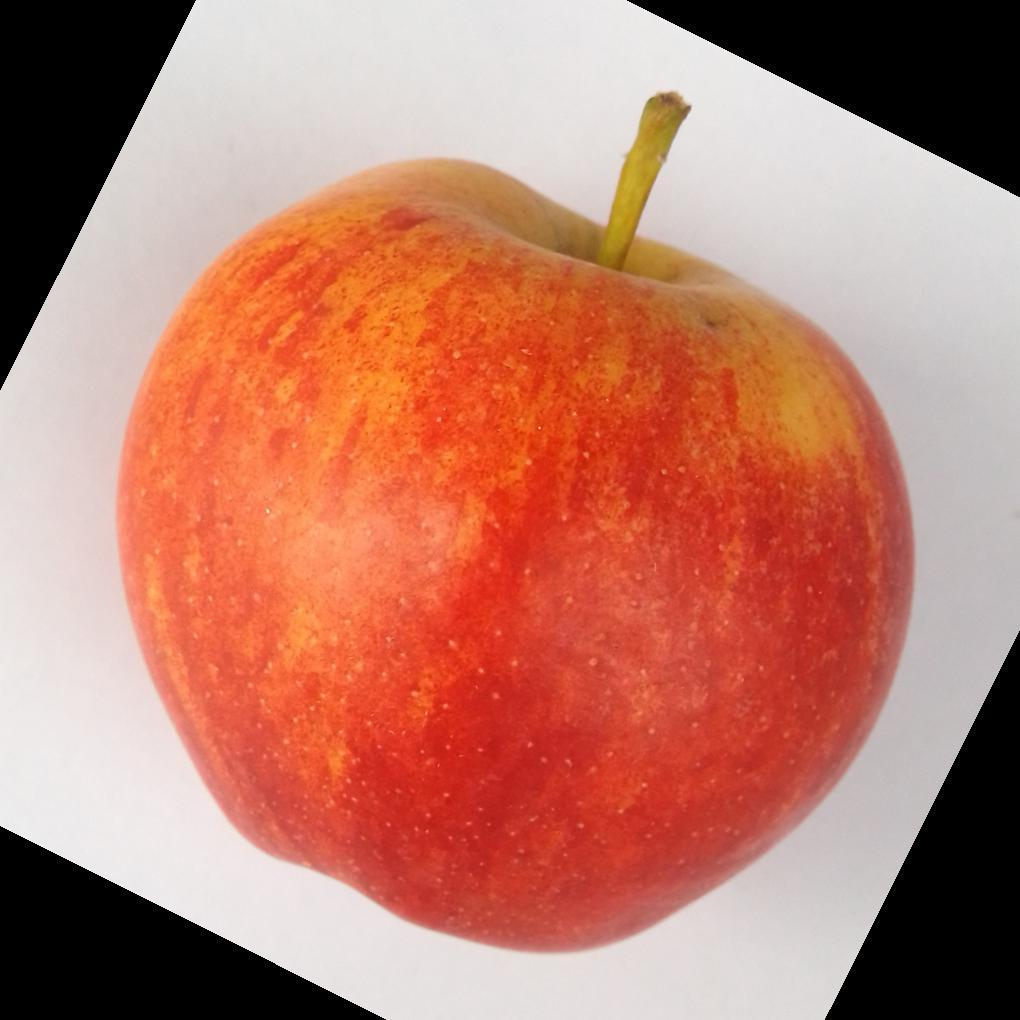FreshGuava: (111, 160, 916, 959)
